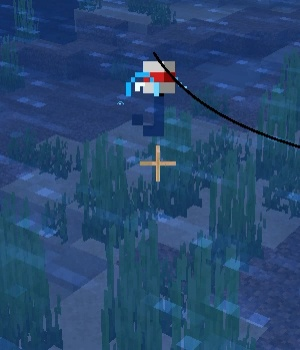up: (131, 57, 179, 136)
